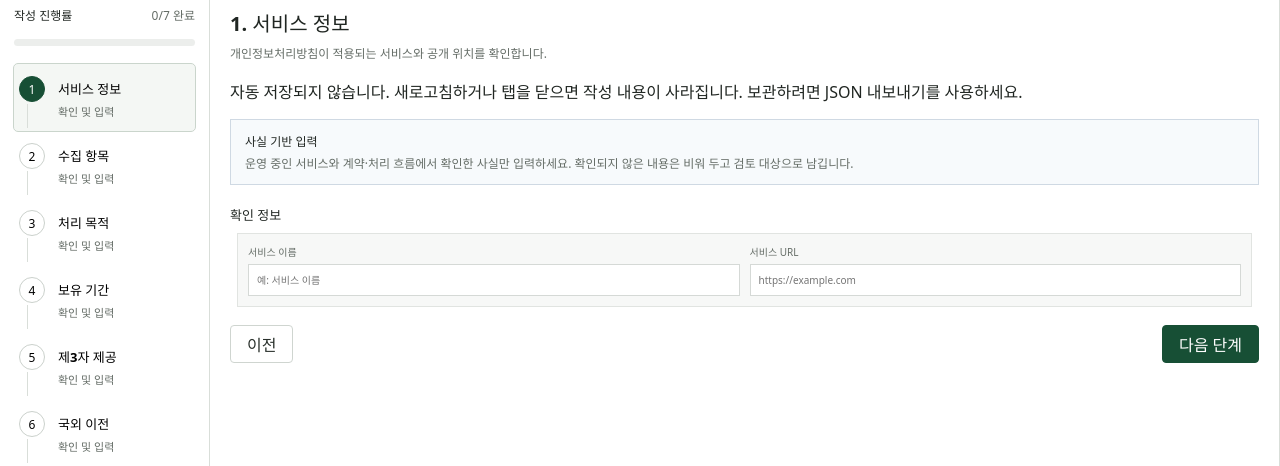
preview item review state follows the per-item readiness contract › keeps the purpose cell projection unchanged when purpose is present but other item facts are open
The image size is (1280, 466).
Click the button "2 수집 항목 확인 및 입력" at (104, 164), box left=14, top=131, right=195, bottom=198
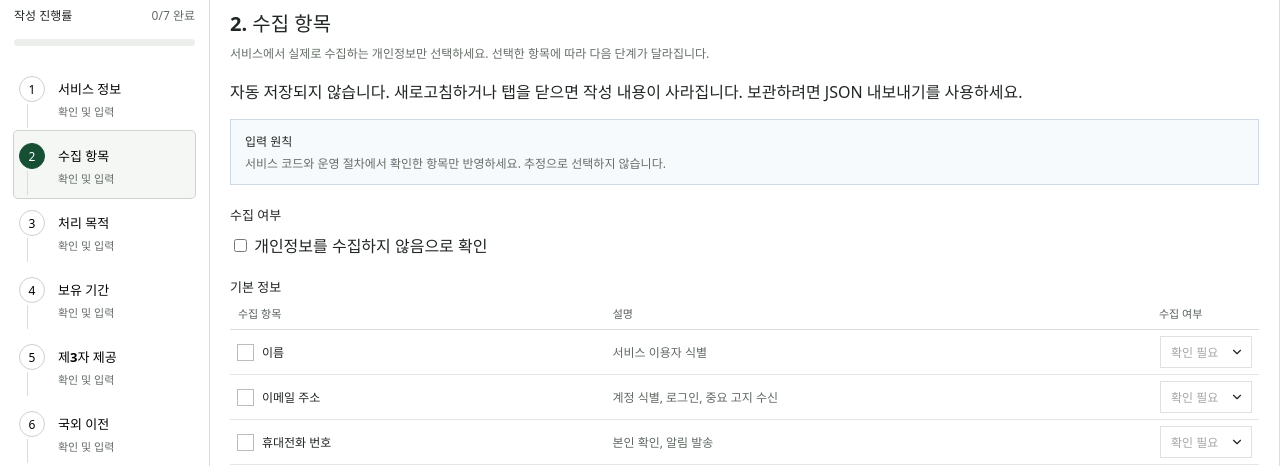
Click the checkbox labelled "이름" at (261, 352), box left=237, top=344, right=284, bottom=361
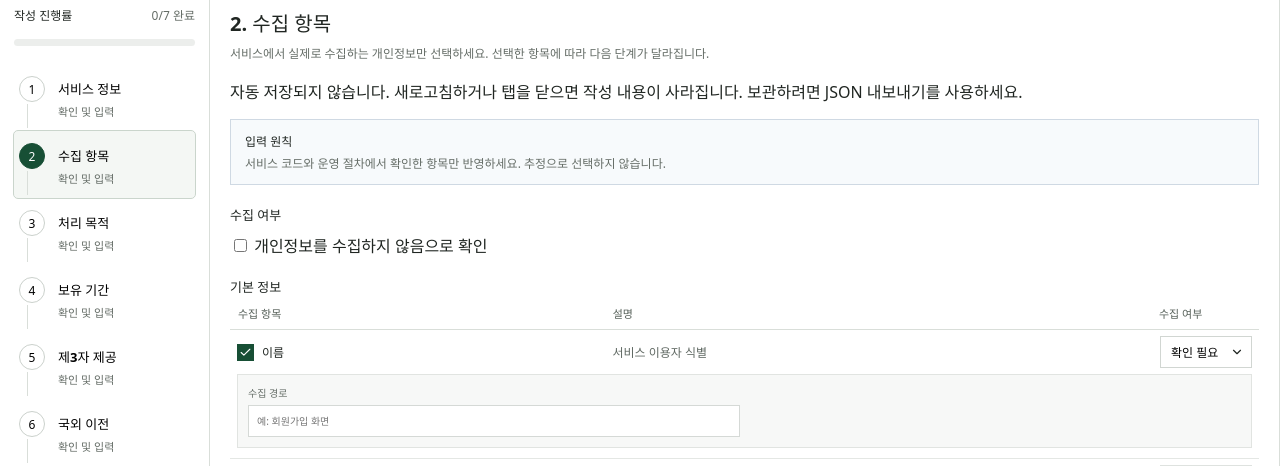
Click the button "3 처리 목적 확인 및 입력" at (104, 232), box left=14, top=198, right=195, bottom=265
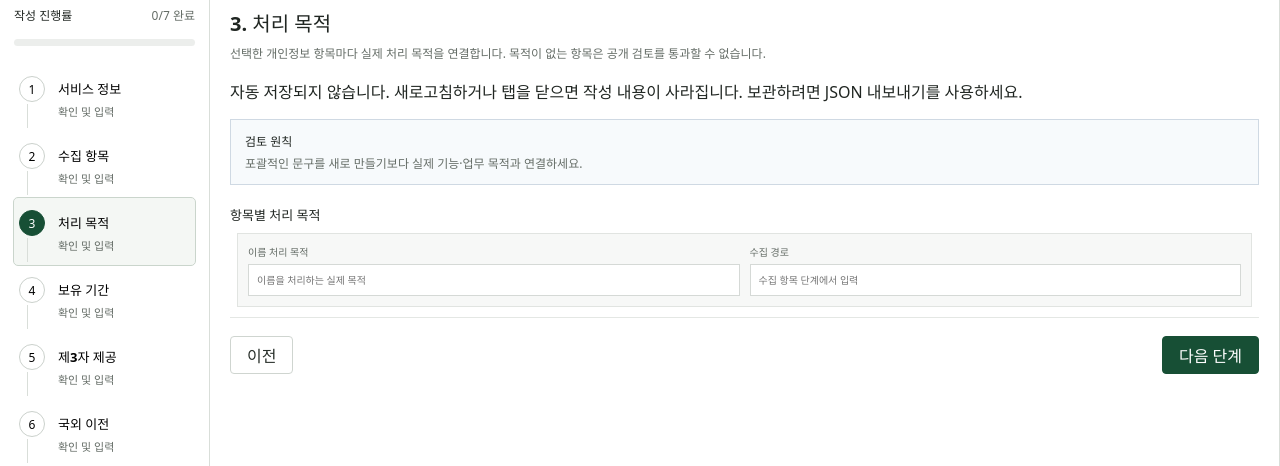
Type "회원 식별" into the field named "purpose-name" at (494, 280), box left=248, top=264, right=740, bottom=296
(page scrolled)
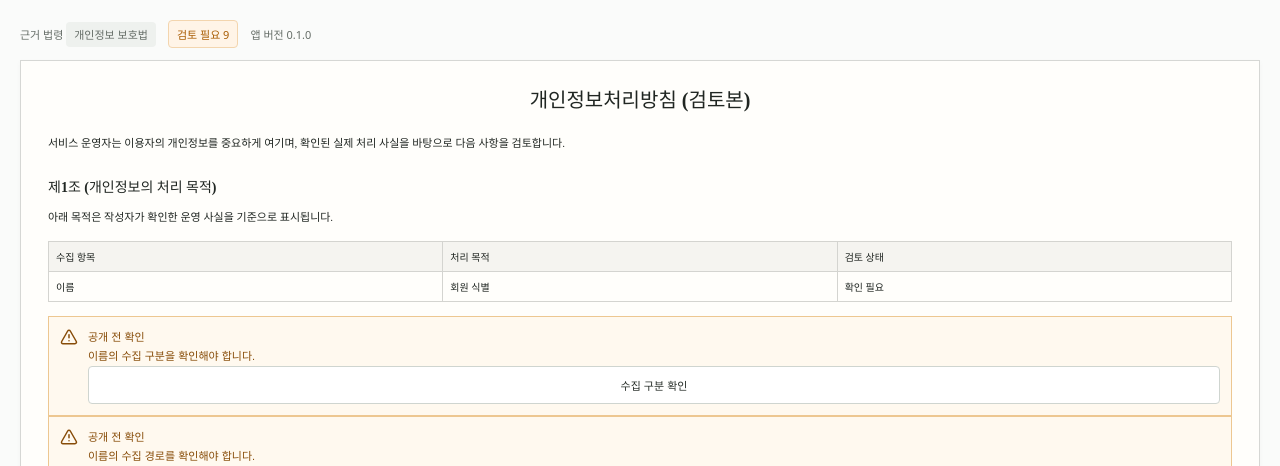
Check: the cell "회원 식별" is shown, box left=443, top=271, right=837, bottom=301
